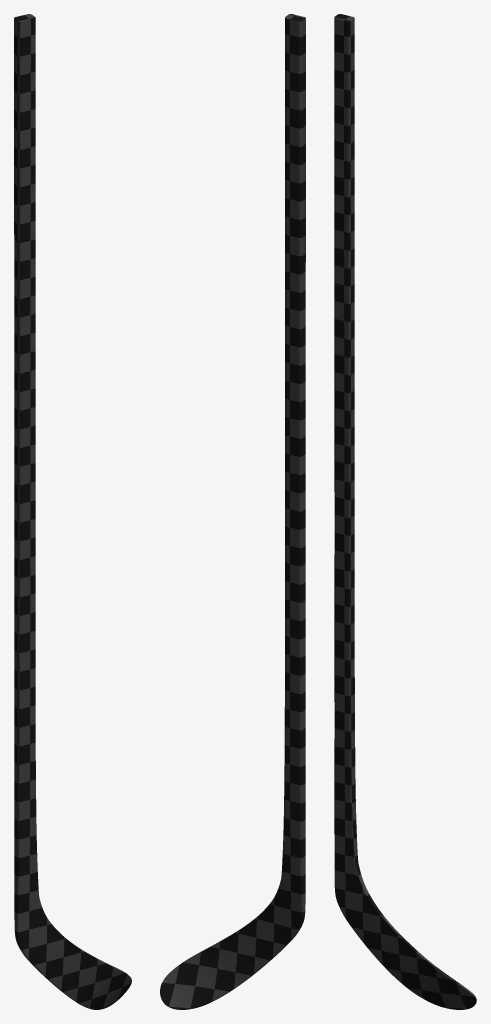
The picture shows the model from 3 angles, left to right: view 1: azimuth 30°, elevation 25°; view 2: azimuth 150°, elevation 25°; view 3: azimuth 330°, elevation 25°; orthographic projection. The views are drawn at different scales.
Visible parts, largest first — view 1: geometry_0; view 2: geometry_0; view 3: geometry_0.
Boxes of the visible parts, <box> form: geometry_0: <box>14,14,131,1009</box>; geometry_0: <box>160,14,305,1009</box>; geometry_0: <box>334,14,476,1009</box>.
Size of the model in its own units: 220 by 1650 by 67.13.
Materials: 1 (1 with a texture image).
